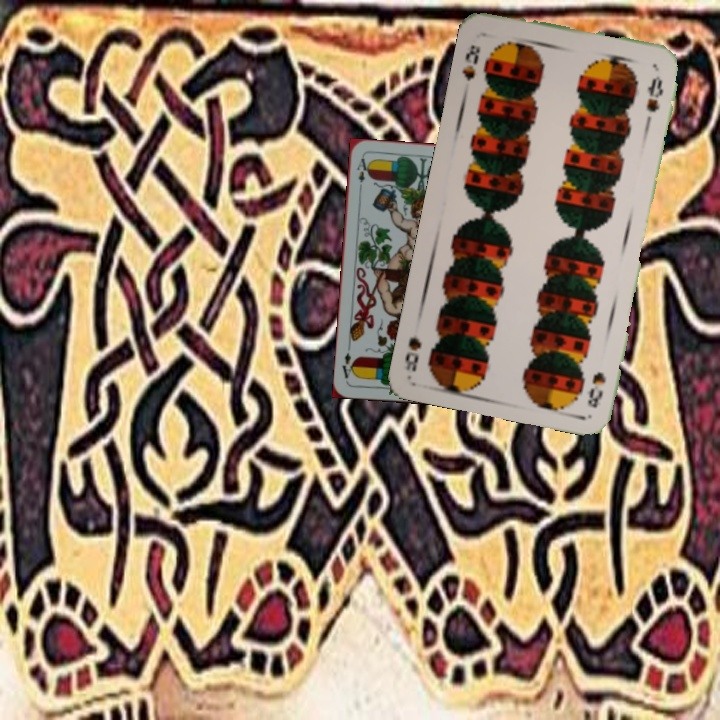EA: (353, 154, 371, 194)
S8: (583, 368, 609, 411), (458, 40, 483, 84)
